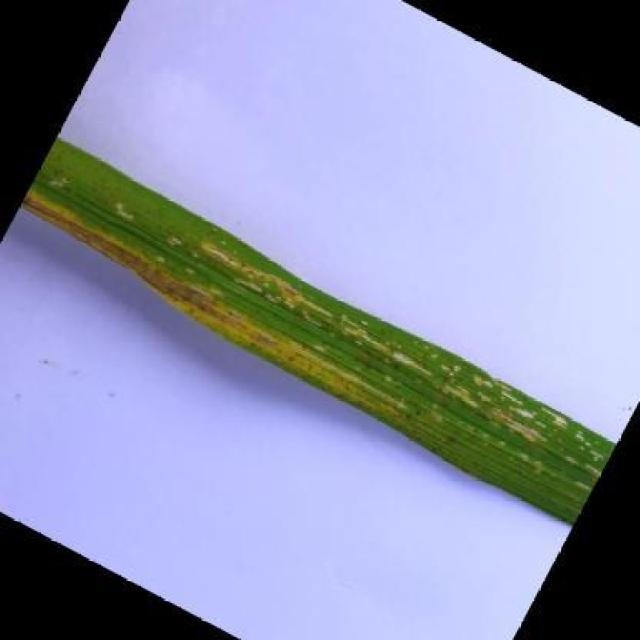Rice False Smut: (3, 130, 622, 535)
